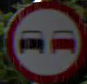No overtake: (5, 1, 86, 81)
